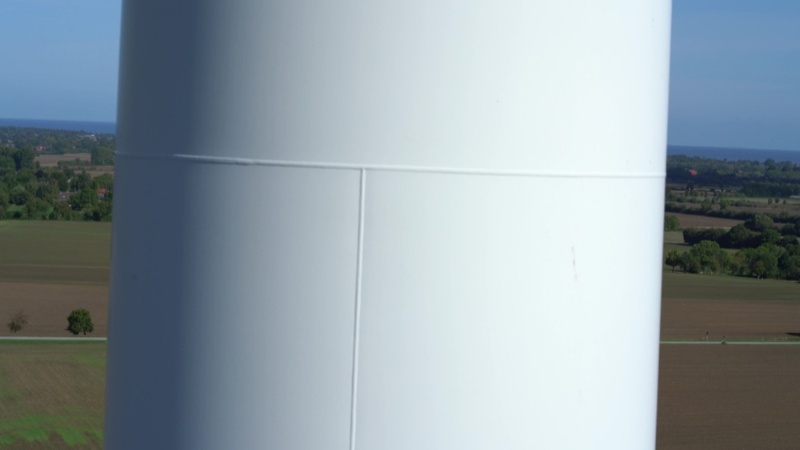weldseam: (112, 144, 666, 183), (345, 158, 369, 450)
